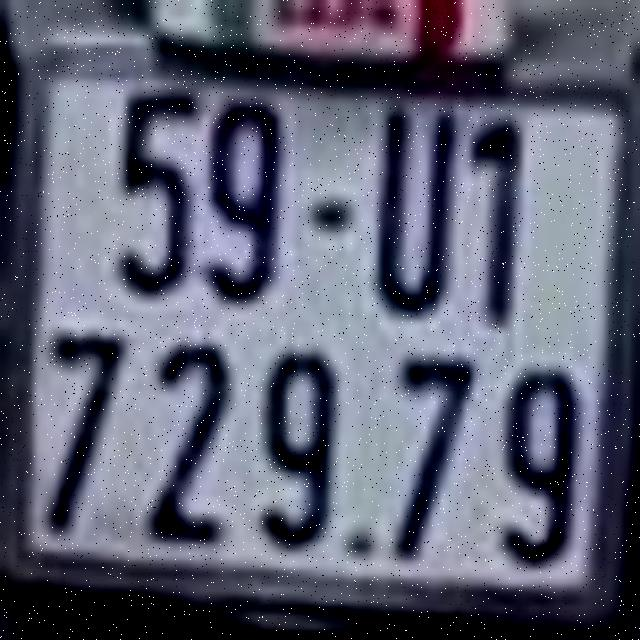1: (466, 114, 527, 326)
2: (148, 337, 228, 544)
5: (115, 86, 198, 297)
7: (391, 349, 475, 563), (42, 325, 125, 537)
9: (498, 360, 578, 568), (207, 95, 281, 304), (260, 347, 334, 549)
U: (374, 101, 455, 317)
